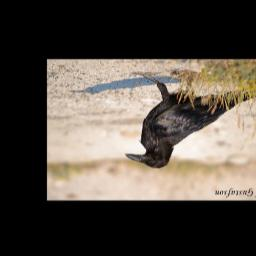Crow: (125, 71, 256, 169)
